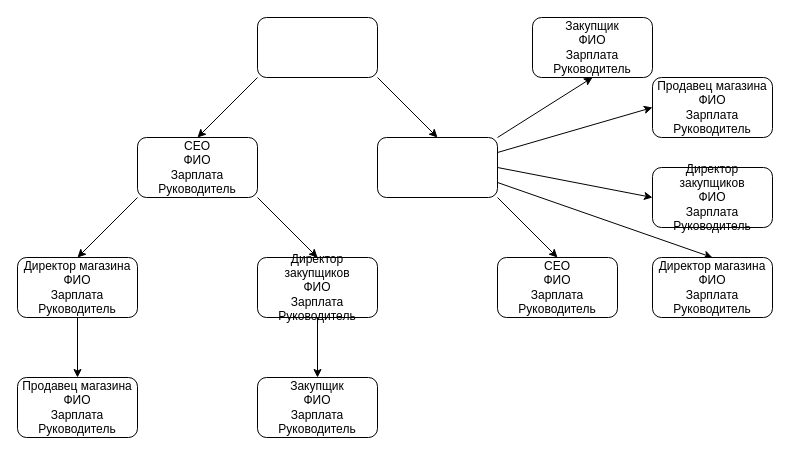
The diagram is 790 pixels wide and 455 high, and some of its shapes have lost their labels. The shapes that lost their labels are listed below. From the top down, each one's centre as x and y in pixels, then its label:
point 317,47: Компания по розничной продаже
point 437,167: HR ФИО Зарплата
